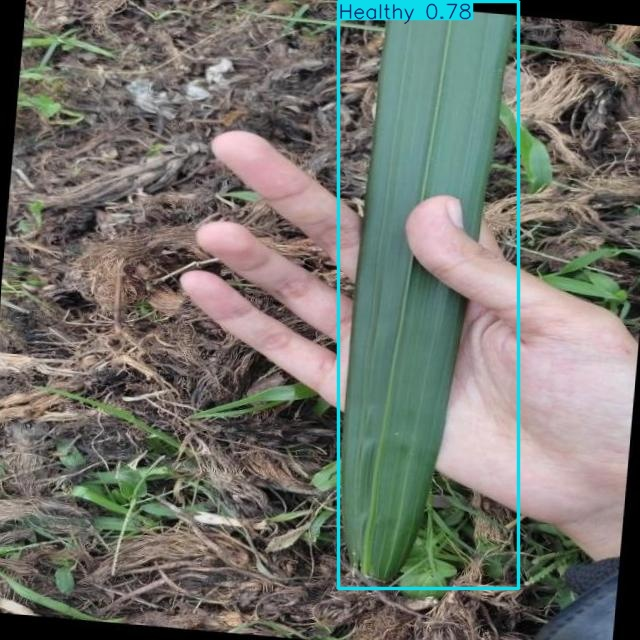Healthy: (339, 1, 518, 589)
